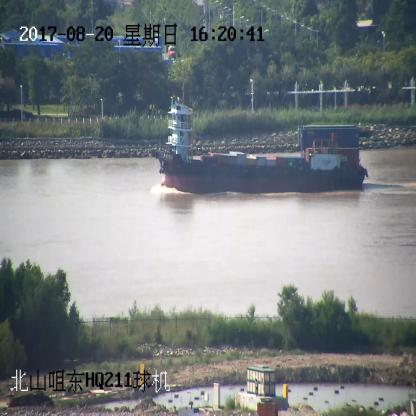Container Ship: (162, 98, 367, 192)
